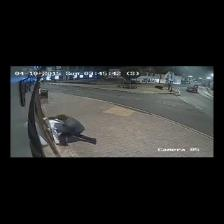person: (43, 115, 96, 145)
